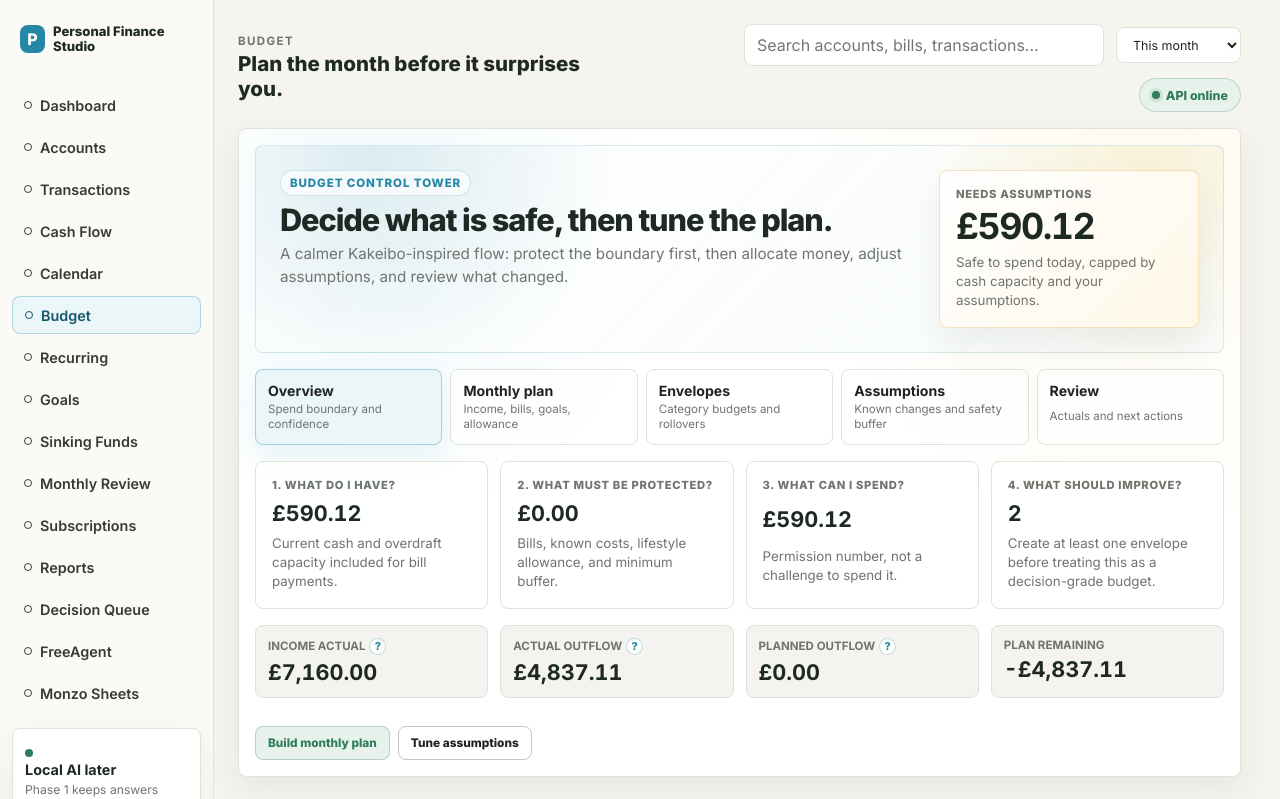
it: App › renders the Budget Control Tower workflow without crowding every control into the first view
Expected: the text "Budget control tower" is shown, 280,170 -> 471,196
Expected: the heading "Decide what is safe, then tune the plan." is shown, 280,204 -> 923,235
What coordinates should you click on to do the following:
click the tab "Monthly plan Income, bills, goals, allowance"
I would click on:
 (544, 407)
Its box is 450,369 -> 638,445.
(page scrolled)
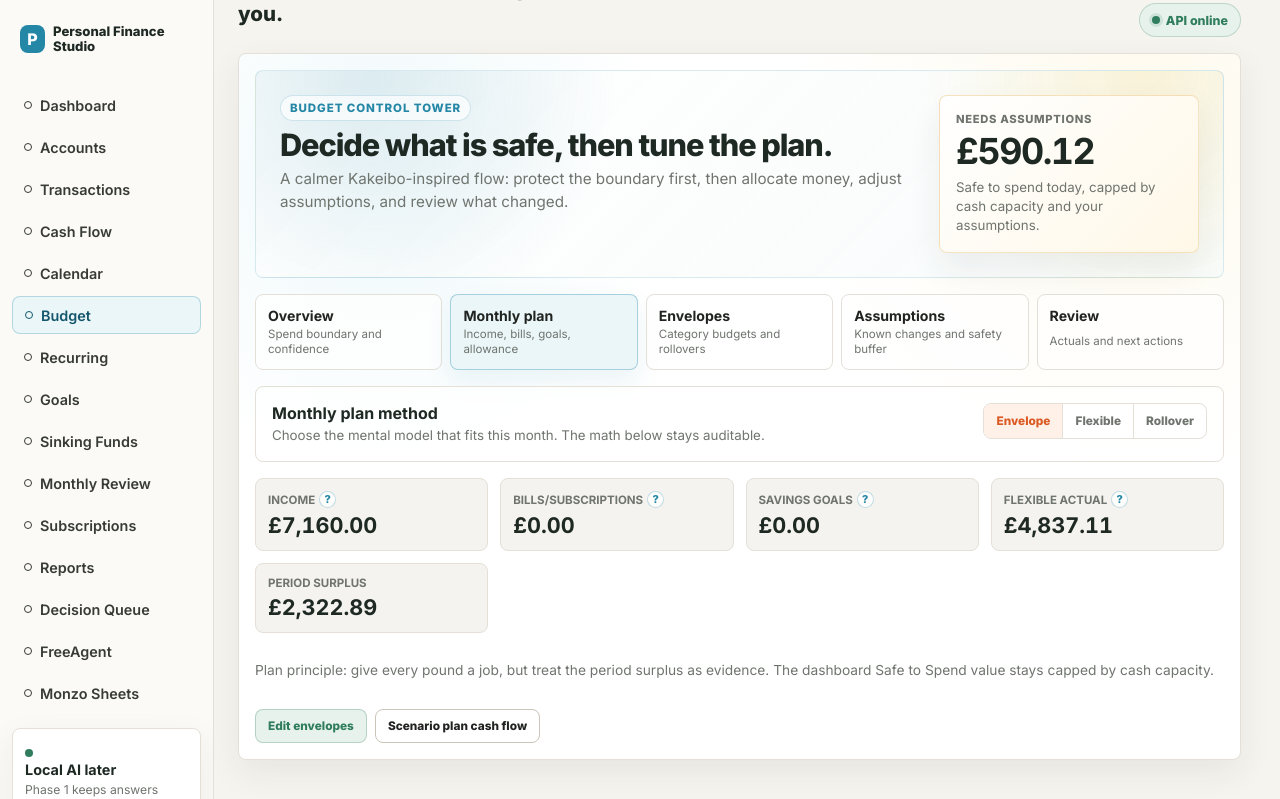
Result: the text "Monthly plan method" is shown at 272,403 -> 438,423
Result: the tab "Envelope" is shown at 984,404 -> 1064,438
What coordinates should you click on to do the following:
click the button "Edit envelopes"
I would click on:
 (311, 726)
Its box is 255,709 -> 367,743.
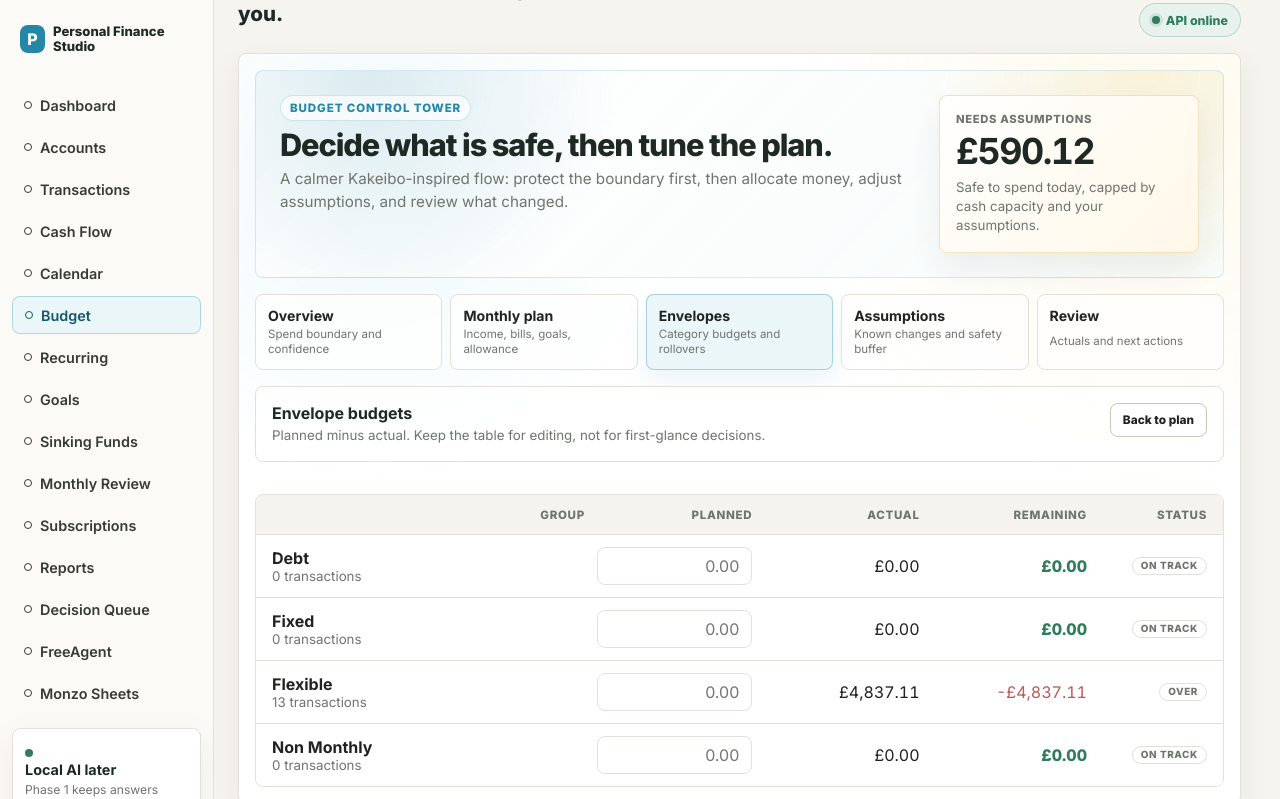
Result: the text "Envelope budgets" is shown at 272,403 -> 412,423
Result: the table named "Monthly budget envelopes" is shown at 255,494 -> 1224,787
What coordinates should you click on to do the following:
click the tab "Assumptions Known changes and safety buffer"
I would click on:
 (935, 332)
Its box is 841,294 -> 1029,370.
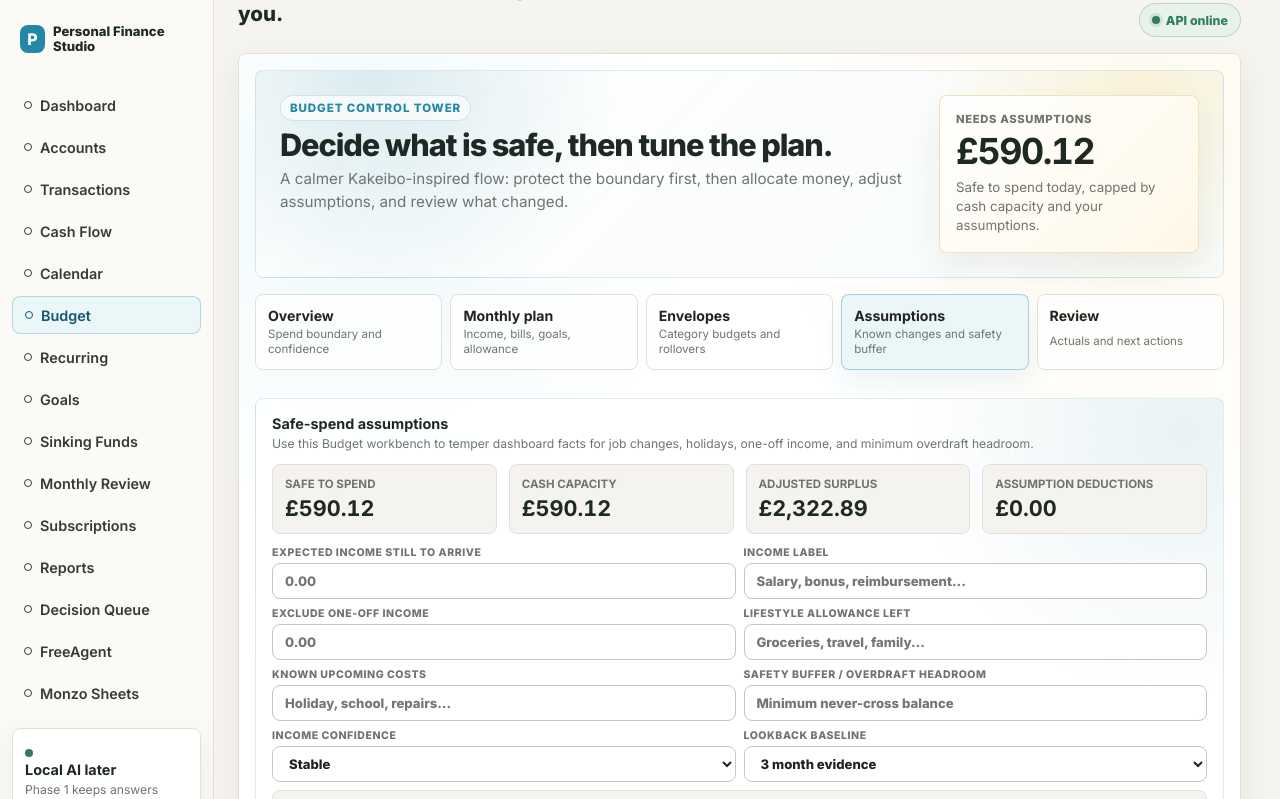
Result: the text "Safe-spend assumptions" is shown at 272,415 -> 448,432
What coordinates should you click on to do the following:
click the tab "Review Actuals and next actions"
I would click on:
 (1130, 332)
Its box is 1037,294 -> 1224,370.
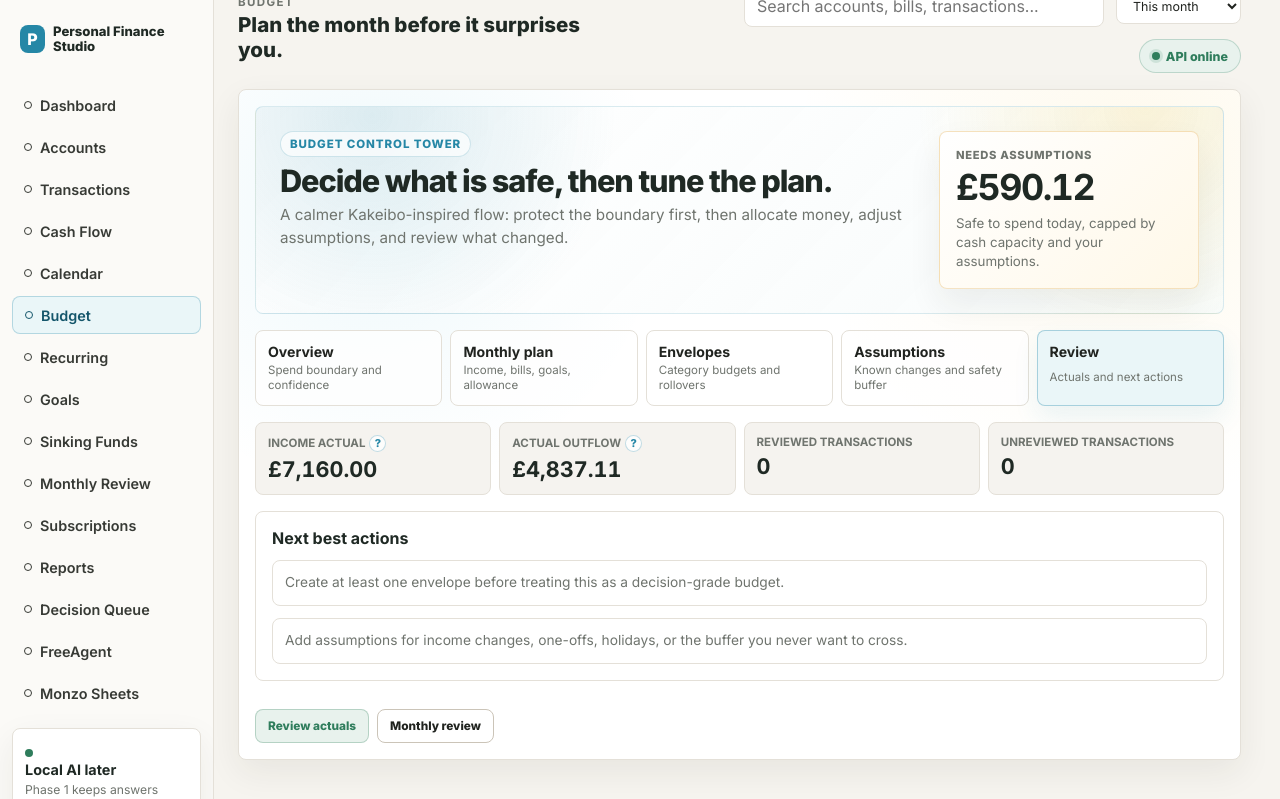
Result: the text "Next best actions" is shown at 272,528 -> 408,548
